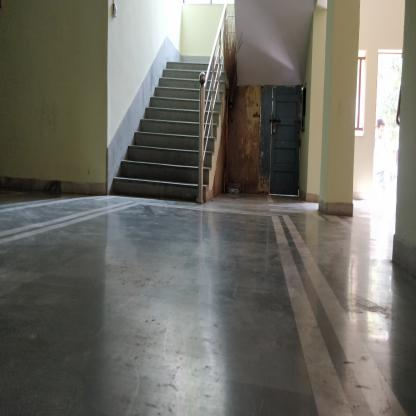stairs: (167, 60, 197, 206)
